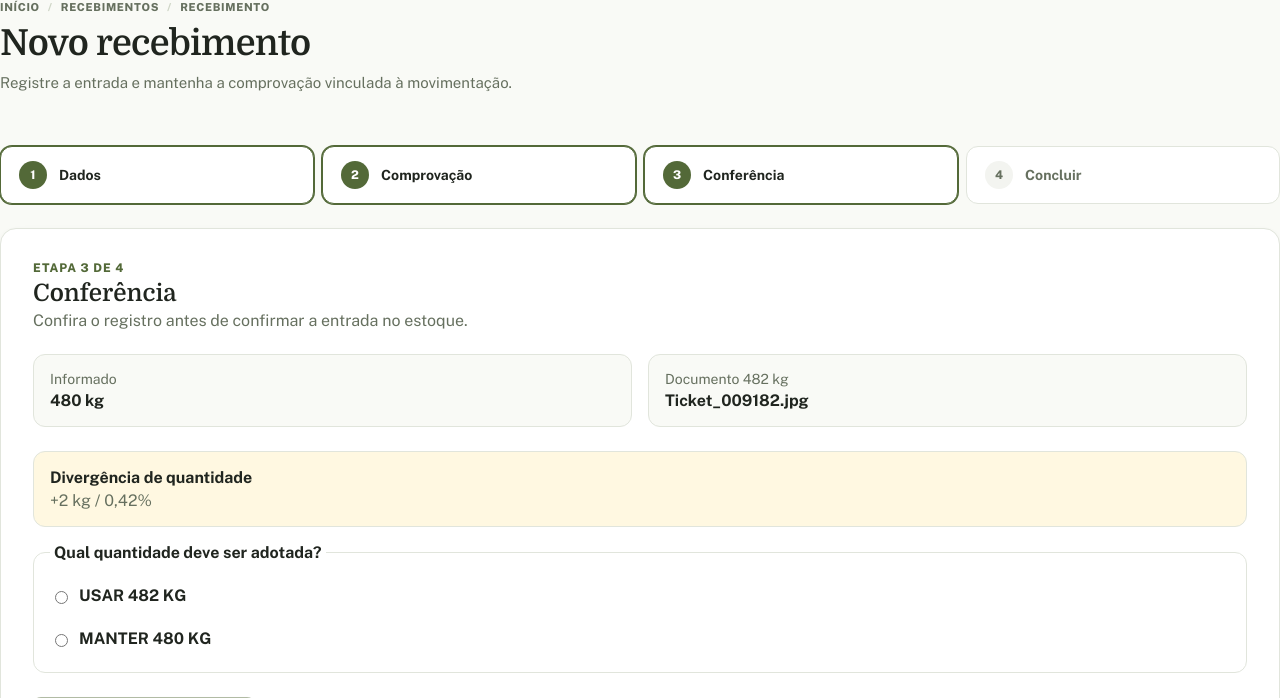
Scenario: ReceiptFlowPage › allows use_document without justification
Click the radio button labelled "USAR 482 KG". click: (62, 597)
box: [55,591,68,604]
(page scrolled)
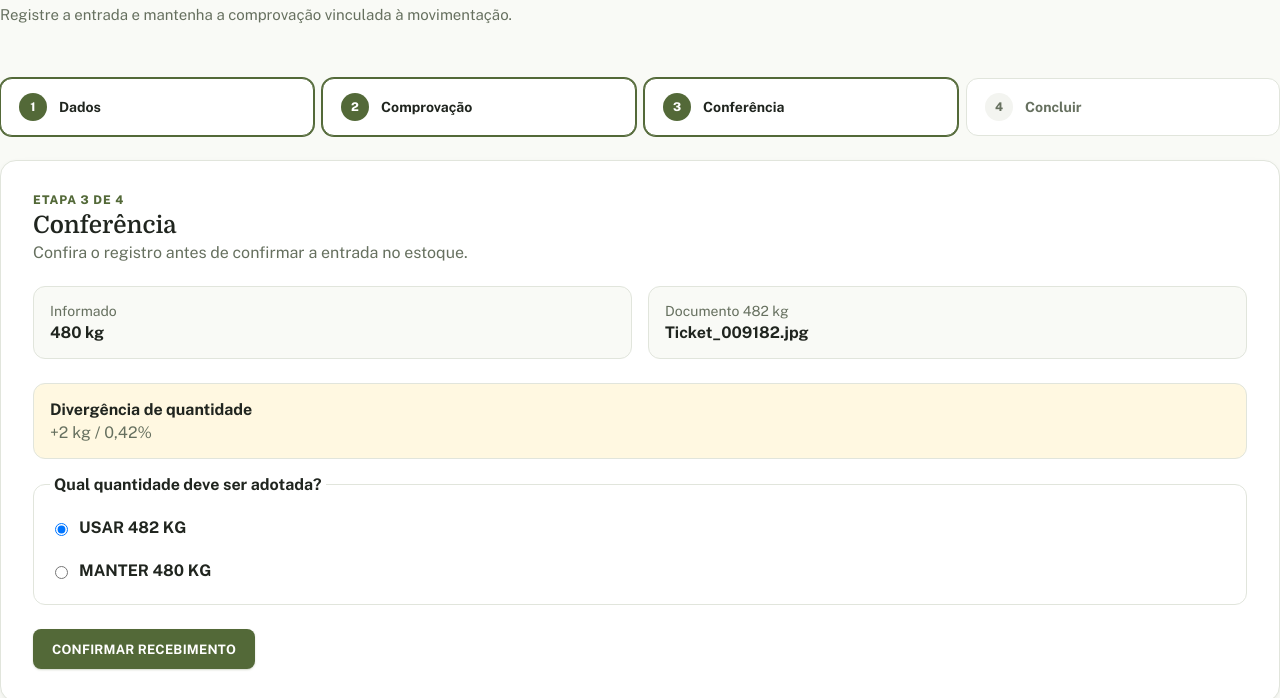
Now the button "CONFIRMAR RECEBIMENTO" is enabled, box [33,629,255,669]
